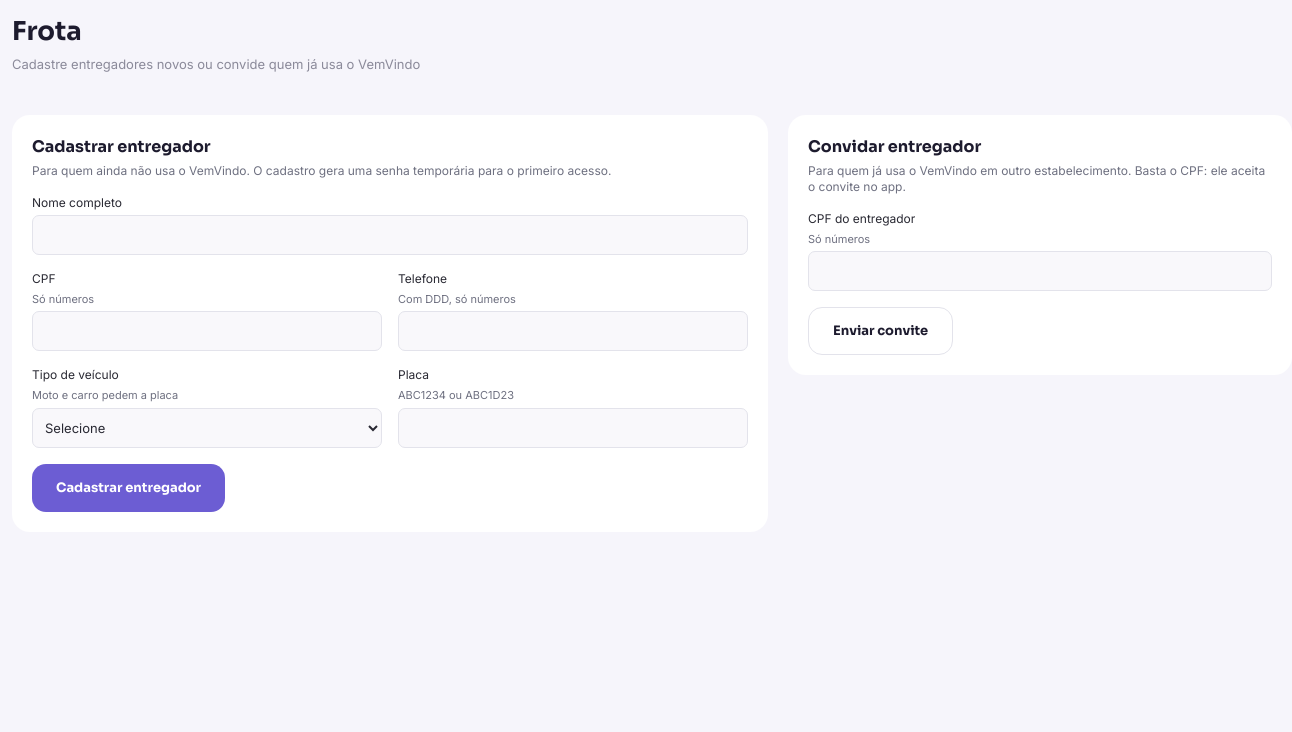
Scenario: PaginaFrota › nao envia o cadastro com campo invalido
The width and height of the screenshot is (1292, 732).
Click the button "Cadastrar entregador" at point(129, 488), box [32,464,225,512]
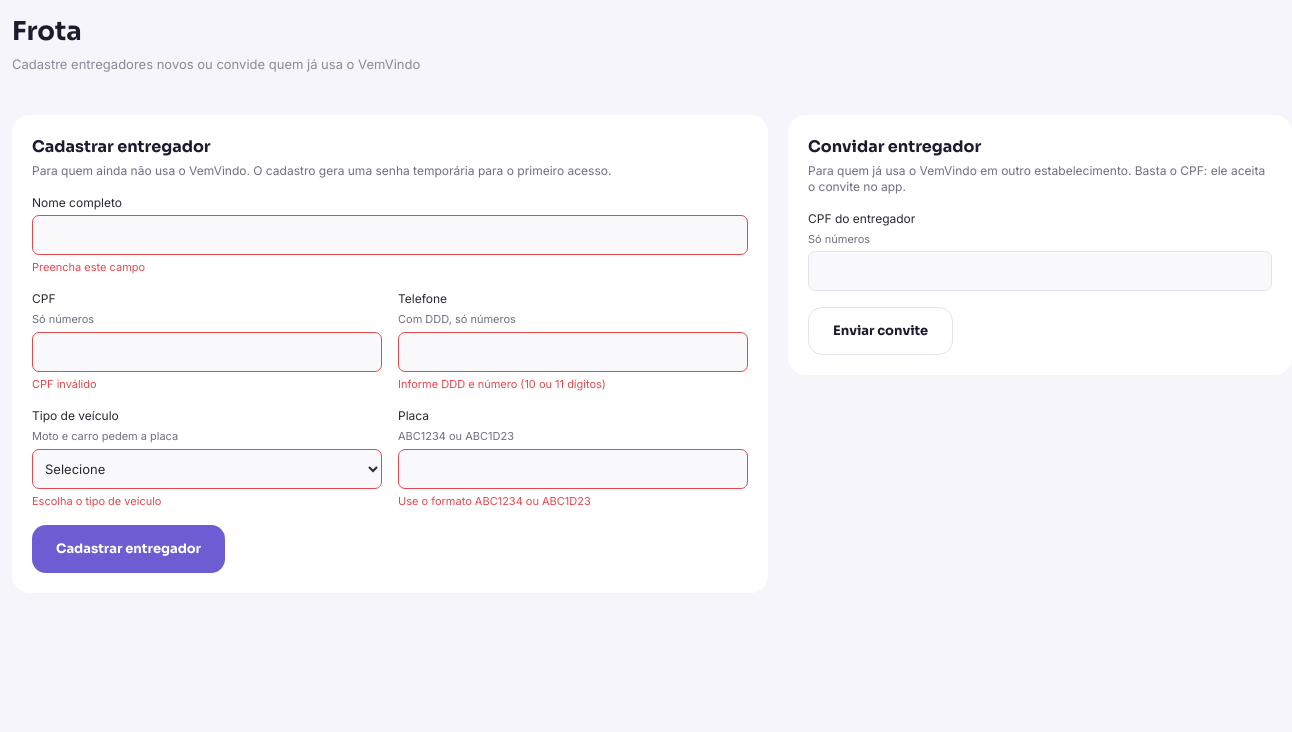
Check: the text "Escolha o tipo de veículo" is shown, box [32,494,162,508]
